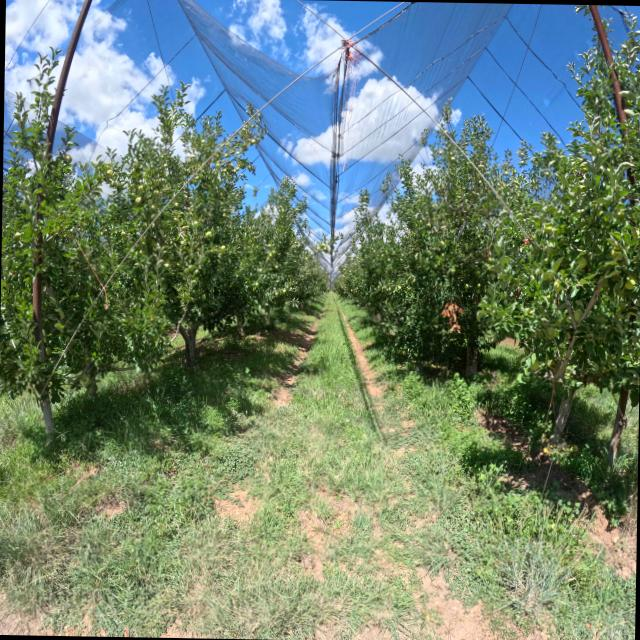-FireBlight-: (440, 300, 466, 335), (481, 246, 491, 260), (513, 284, 522, 298)
